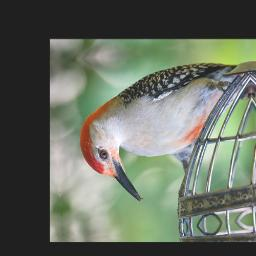Woodpecker: (75, 56, 256, 207)
